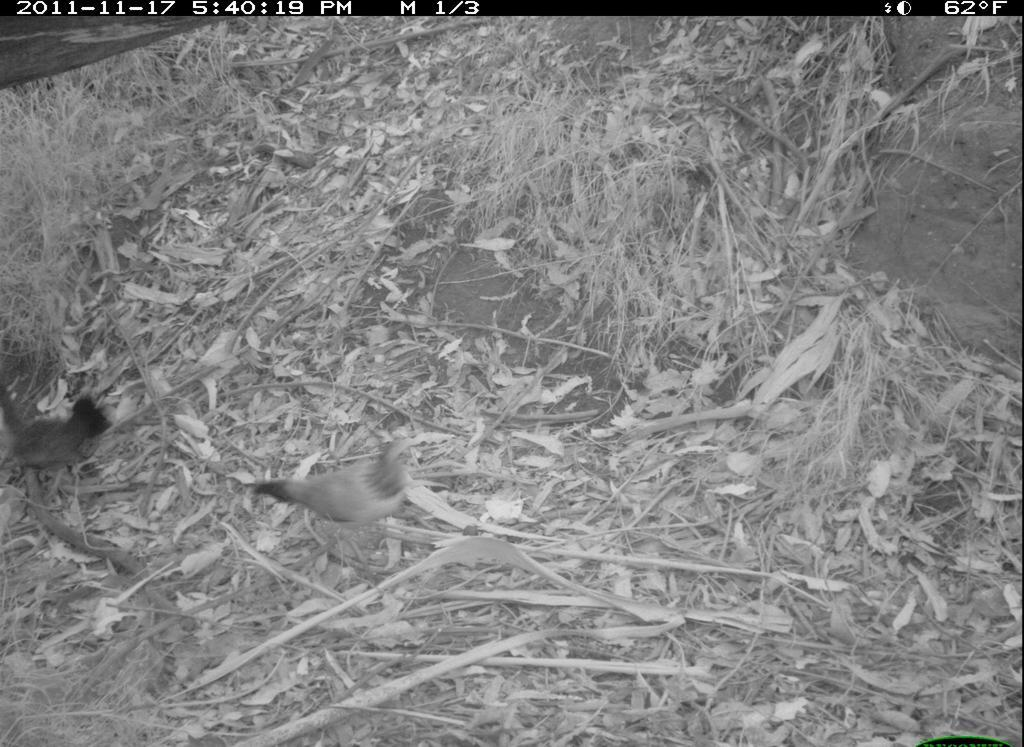bird: (239, 446, 414, 570), (2, 382, 126, 498)
